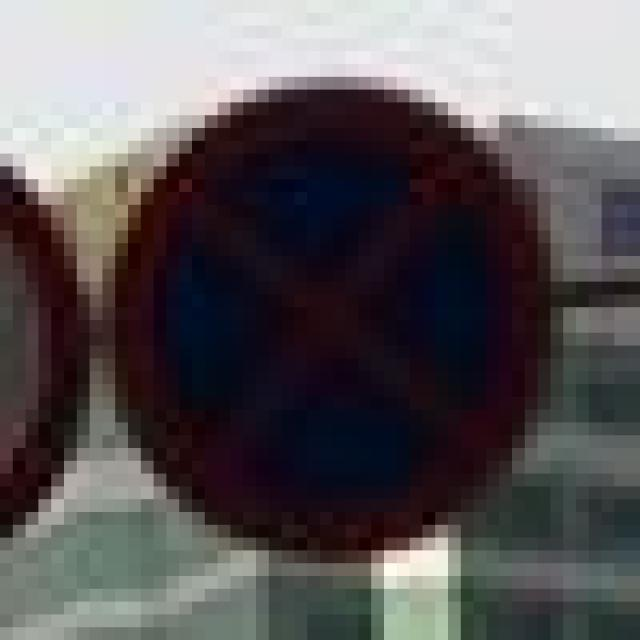no_parking: (115, 77, 550, 550)
